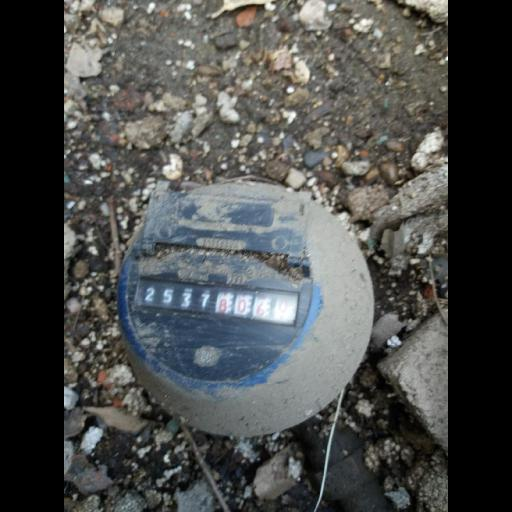0: (272, 295, 295, 324), (234, 294, 254, 317)
2: (141, 280, 160, 306)
3: (178, 284, 197, 310)
5: (159, 282, 178, 307)
6: (252, 294, 273, 321)
7: (196, 287, 214, 311)
8: (214, 289, 235, 316)
border_water_meter_number: (135, 271, 301, 328)
